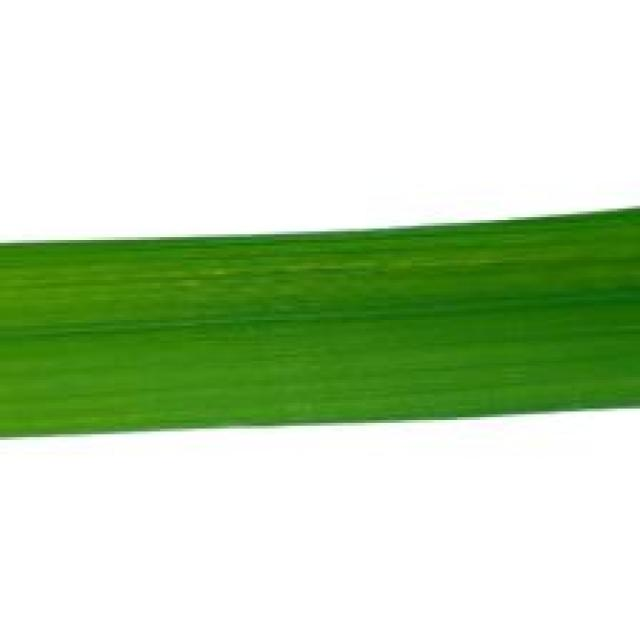Rice___Healthy_Rice_Plant: (0, 209, 637, 439)
